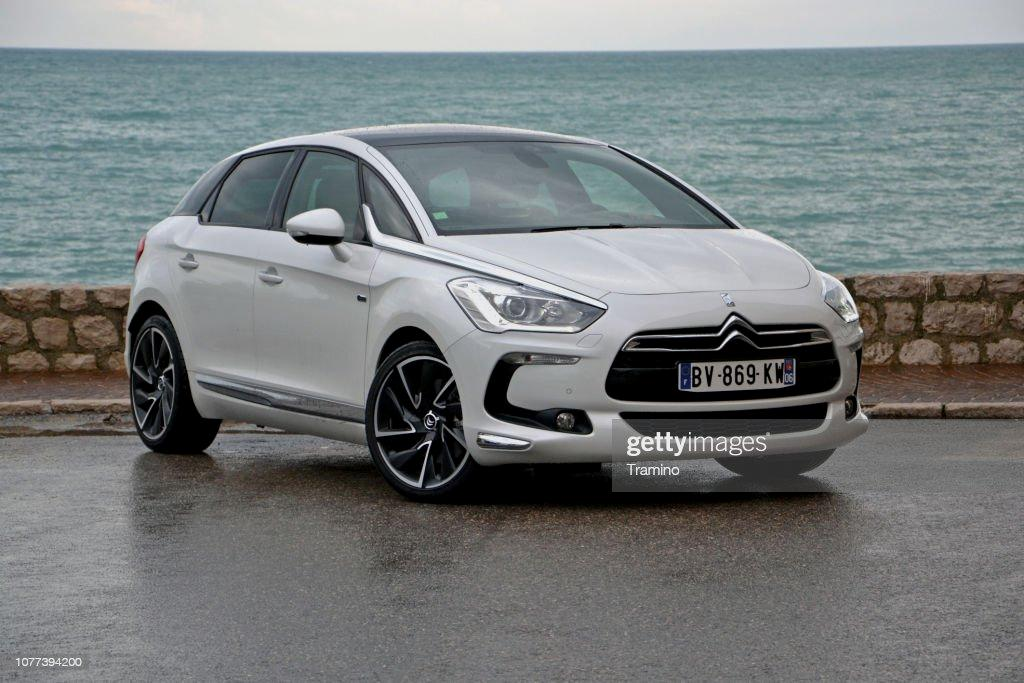Citroen: (705, 302, 772, 360)
